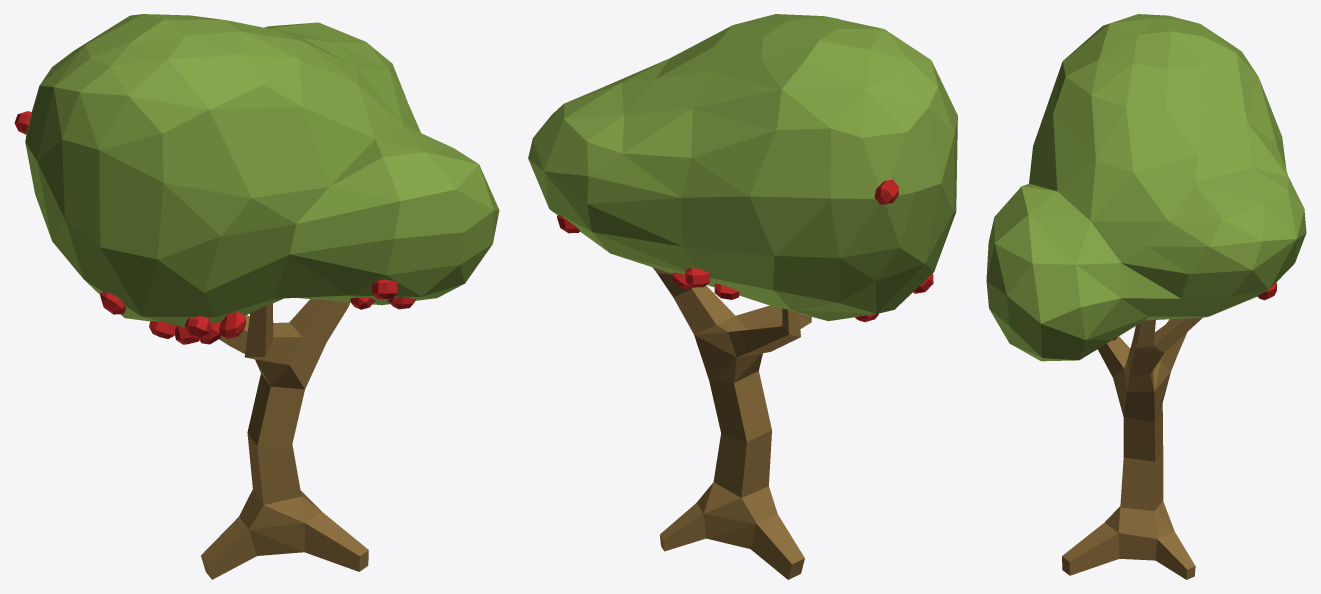
Rendered from appletree.fbx.
3 renders of one model, left to right at view 1: azimuth 30°, elevation 25°; view 2: azimuth 150°, elevation 25°; view 3: azimuth 270°, elevation 25°, orthographic. The views are drawn at different scales.
Parts seen in each view (by area): view 1: appletree_LOD0; view 2: appletree_LOD0; view 3: appletree_LOD0.
Boxes of the visible parts, left/top/right/bottom form: appletree_LOD0: left=14, top=14, right=499, bottom=579; appletree_LOD0: left=528, top=14, right=957, bottom=579; appletree_LOD0: left=986, top=14, right=1306, bottom=579.
Size of what is drawn, in the model's own units: 7.71 by 10.62 by 6.2.
